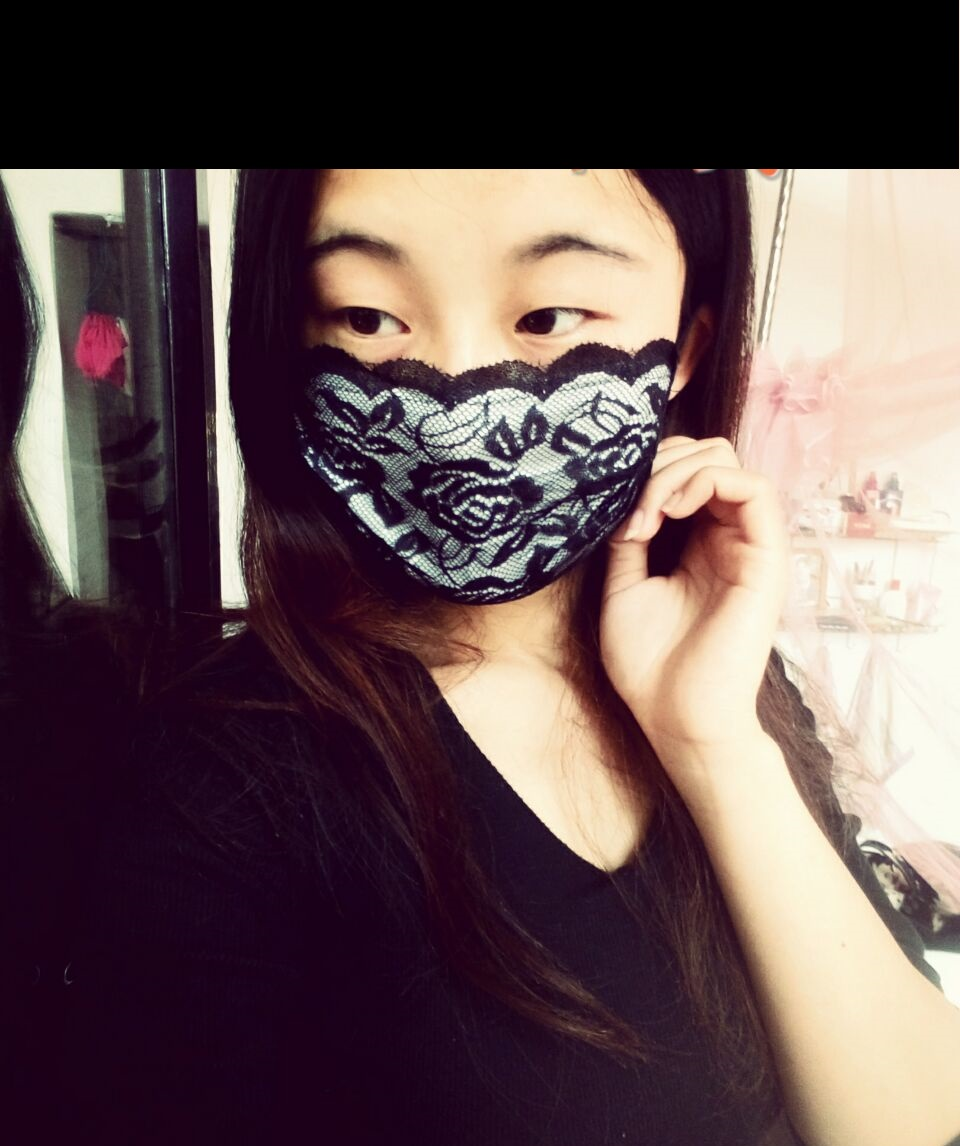face_mask: (292, 104, 668, 622)
